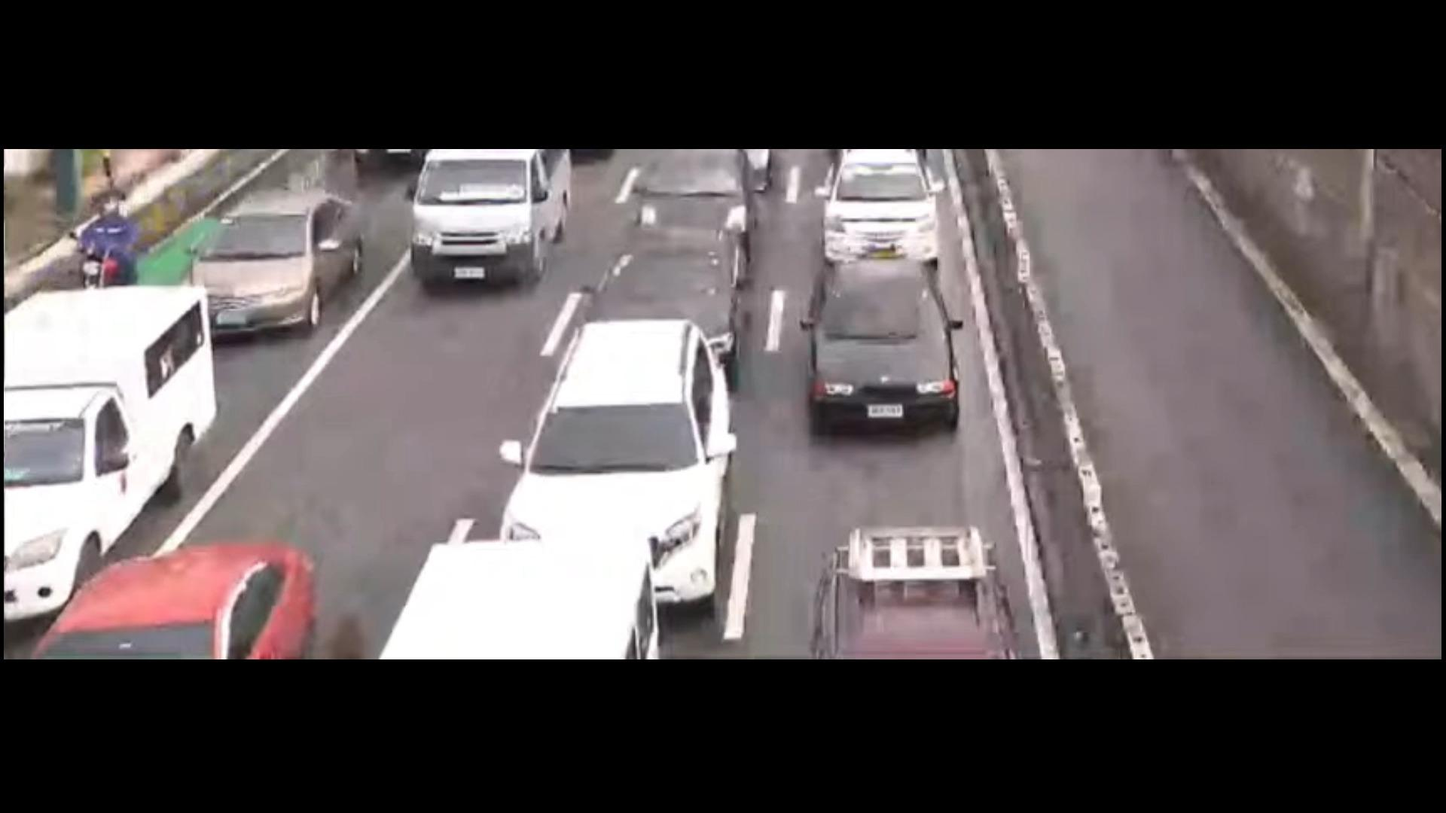Motorcycle: (78, 183, 143, 307)
Multicab: (0, 271, 238, 645)
SUV: (492, 309, 736, 592)
Sedan: (804, 237, 976, 450), (168, 181, 379, 354), (566, 224, 774, 358)
Van: (418, 151, 579, 292)
